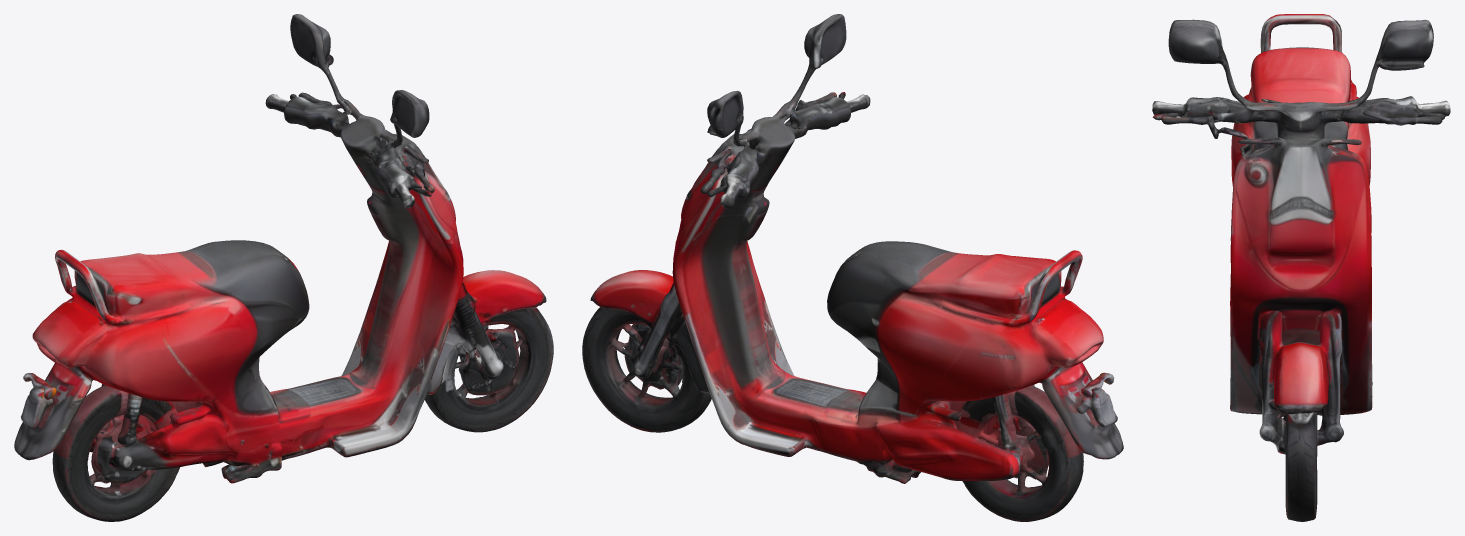
Rendered from Bounce_Infinity_E_1_0905124813.fbx.
3 renders of one model, left to right at view 1: azimuth 30°, elevation 25°; view 2: azimuth 150°, elevation 25°; view 3: azimuth 270°, elevation 25°, orthographic. The views are drawn at different scales.
Parts seen in each view (by area): view 1: Mesh_0; view 2: Mesh_0; view 3: Mesh_0.
Boxes of the visible parts, x1,y1,x2,y2 form: Mesh_0: (14, 14, 553, 521); Mesh_0: (582, 14, 1123, 521); Mesh_0: (1152, 14, 1450, 521).
Size of the model in its own units: 201 by 146 by 92.21.
1 material, 1 textured.
